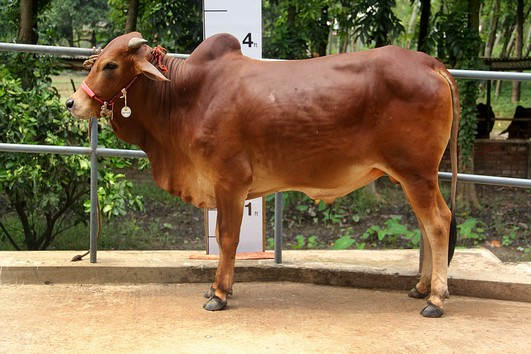cow: (57, 20, 464, 330)
